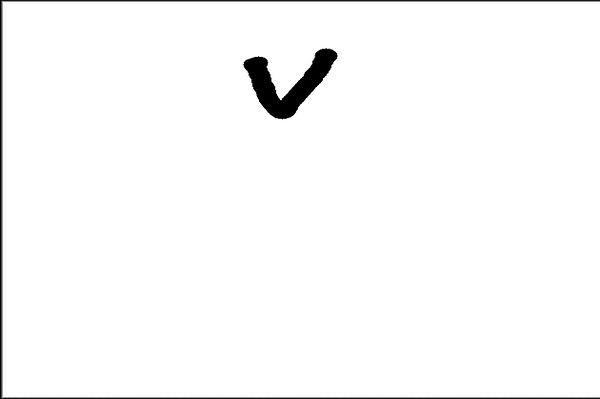V: (235, 36, 343, 126)
